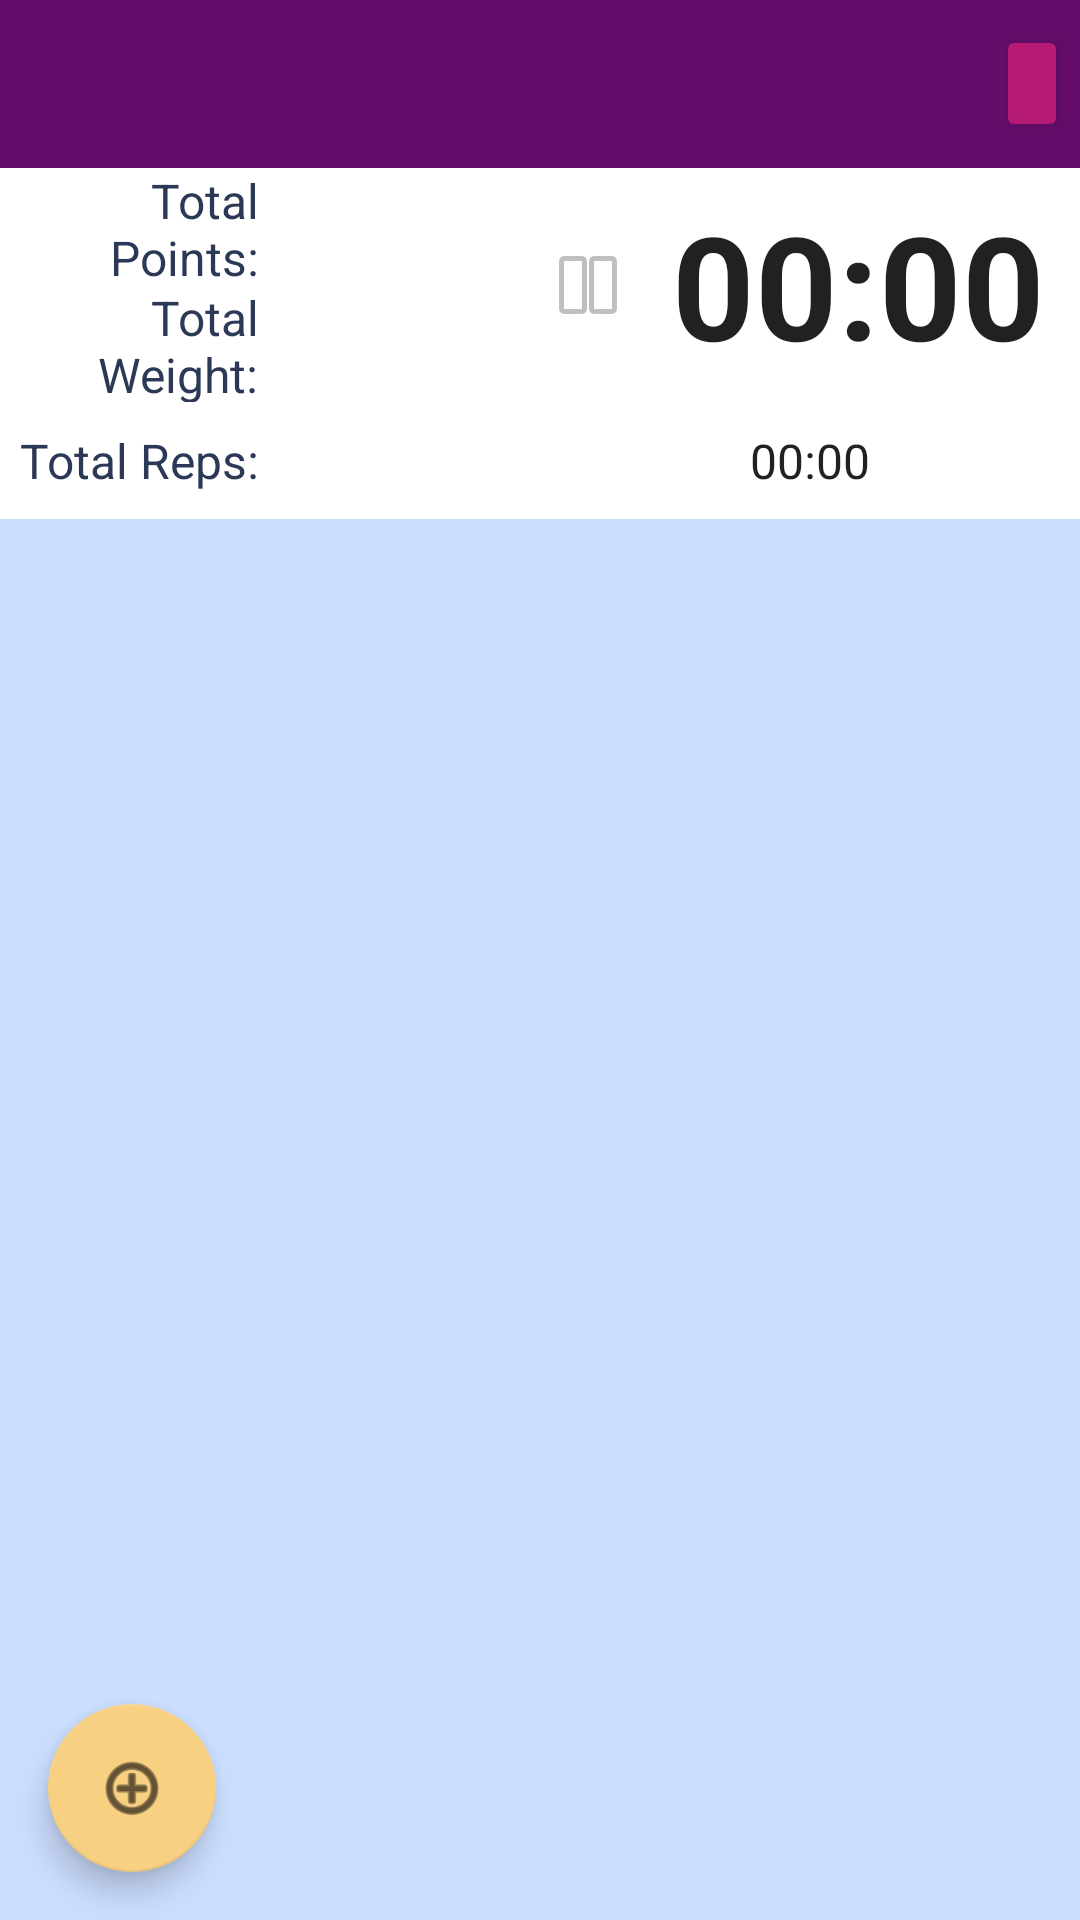

Named icons in this screenshot (1080px×1920px) and their centers, (x=x, y=y):
Add new exercise: (x=132, y=1788)
